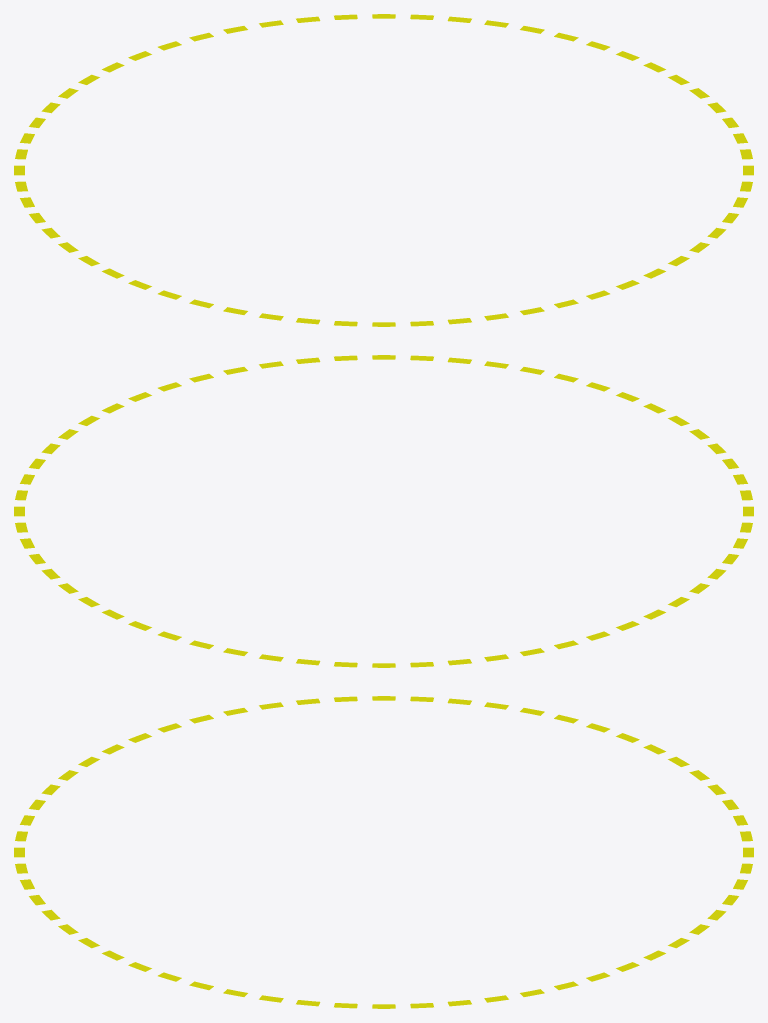
The model's file is xinggui_5.fbx.
3 renders of one model, top to bottom at view 1: azimuth 30°, elevation 25°; view 2: azimuth 150°, elevation 25°; view 3: azimuth 270°, elevation 25°, orthographic.
Parts seen in each view (by area): view 1: x5; view 2: x5; view 3: x5.
Part boxes in pixels (left/top/right/bottom): x5: left=14, top=14, right=753, bottom=326; x5: left=14, top=355, right=753, bottom=667; x5: left=14, top=696, right=753, bottom=1008.
Size of the model in its own units: 1524 by 0 by 1524.
